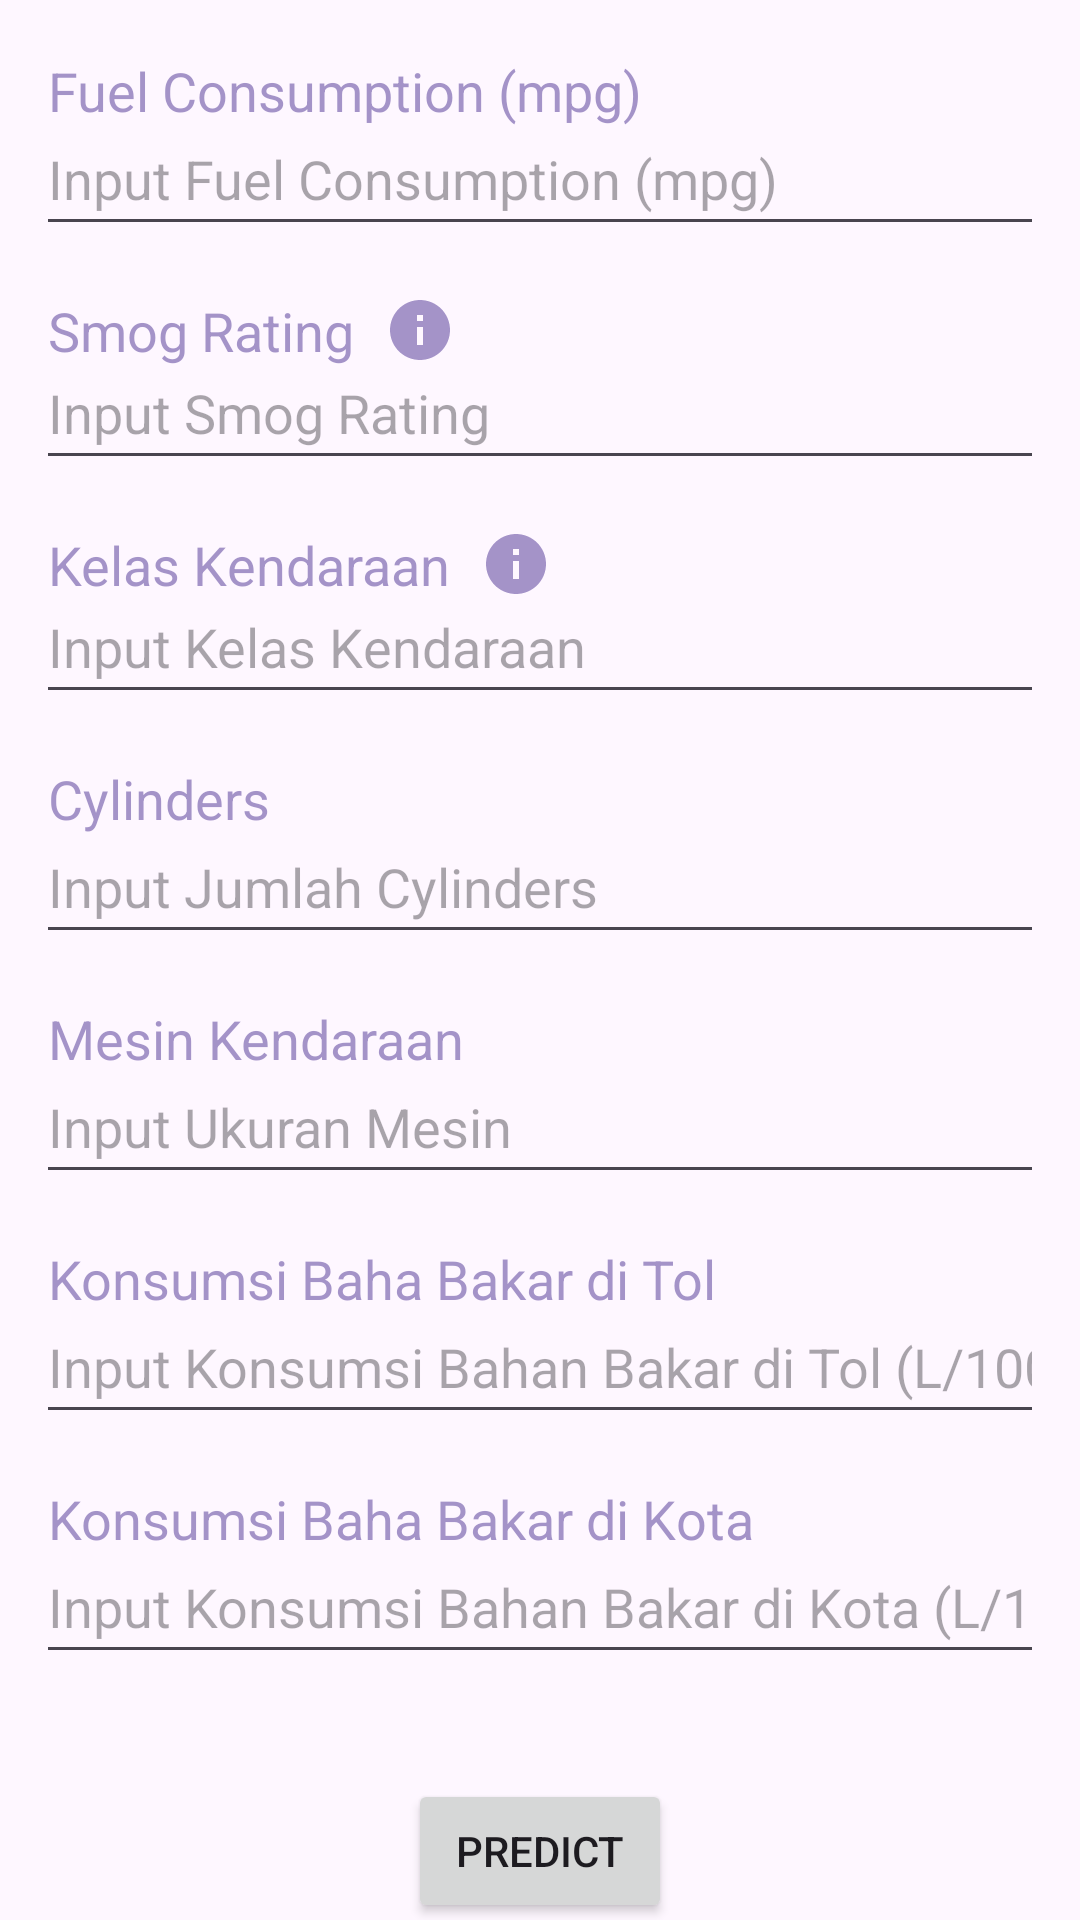

Icons on this 1080px x 1920px Android screen, each with the point to tap as [x,y]:
info: [420,330], [516,564]
